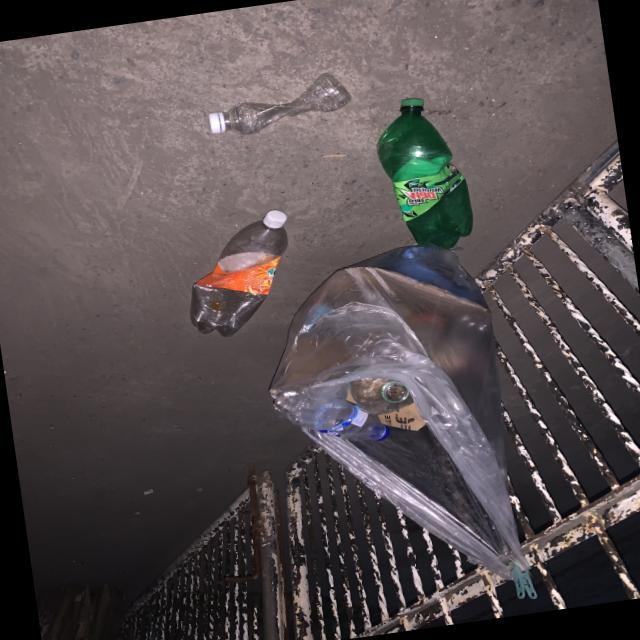Bottle: (377, 98, 473, 249), (190, 210, 288, 337), (209, 73, 351, 134)
